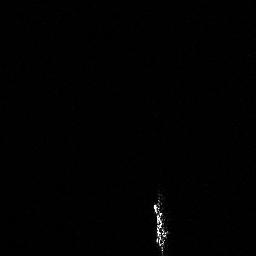ship: (149, 194, 171, 256)
